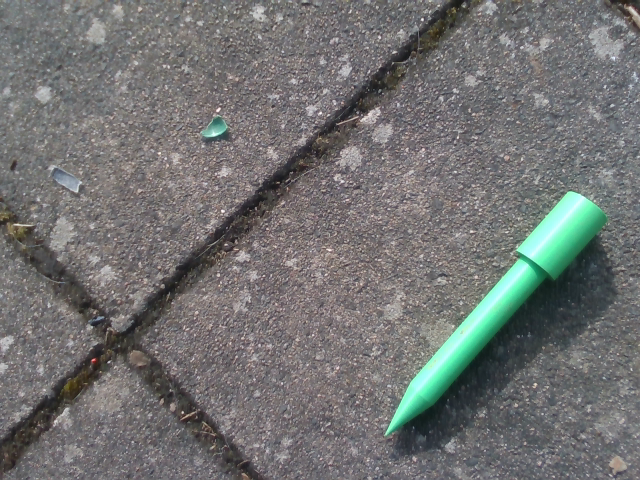Probe: (379, 181, 612, 443)
